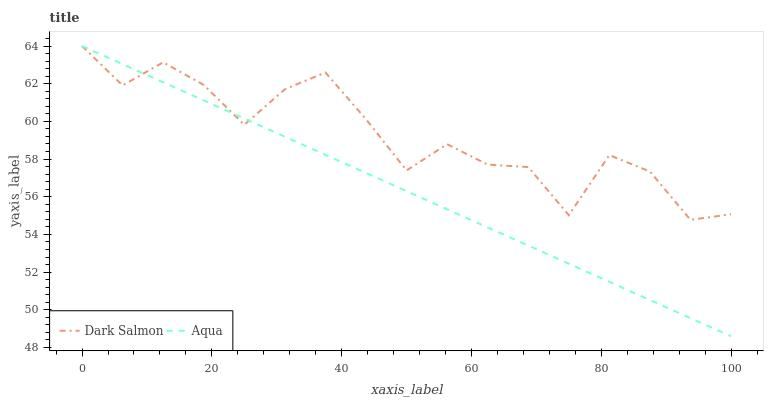axis: (58, 346, 768, 357), (40, 33, 56, 348)
legend: (49, 310, 233, 349)
line: (81, 44, 733, 339), (87, 49, 732, 222)
